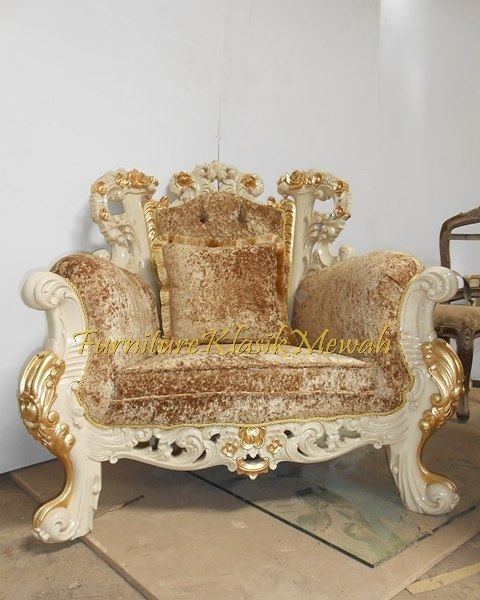Carving Chair: (43, 173, 471, 526)
